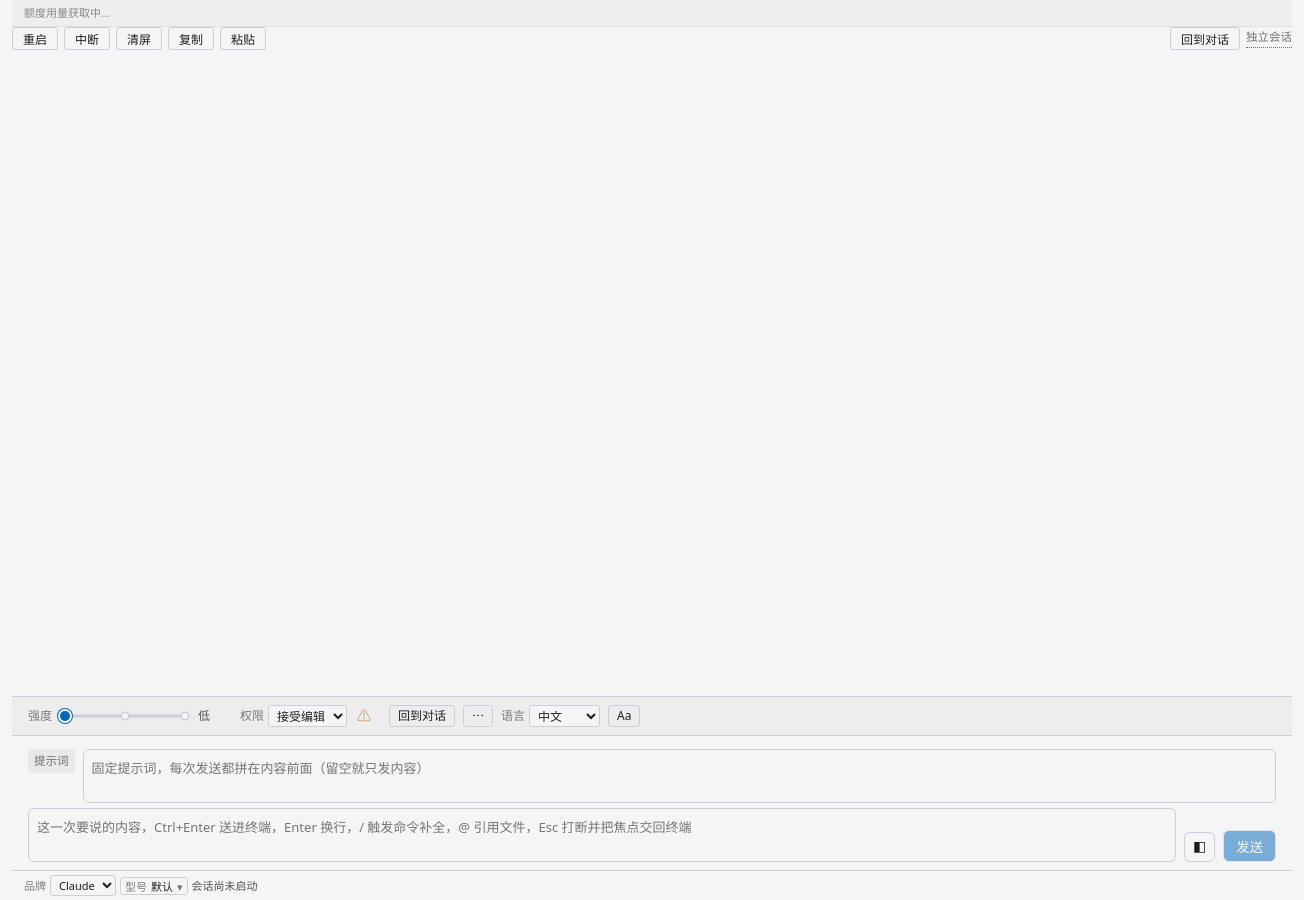
App：状态栏「⋯」菜单 › 凡是有原生面板的都走面板，菜单里不再有走老子命令路径的重复入口
Click the button "⋯": [478, 716] box x1=463 y1=705 x2=493 y2=727
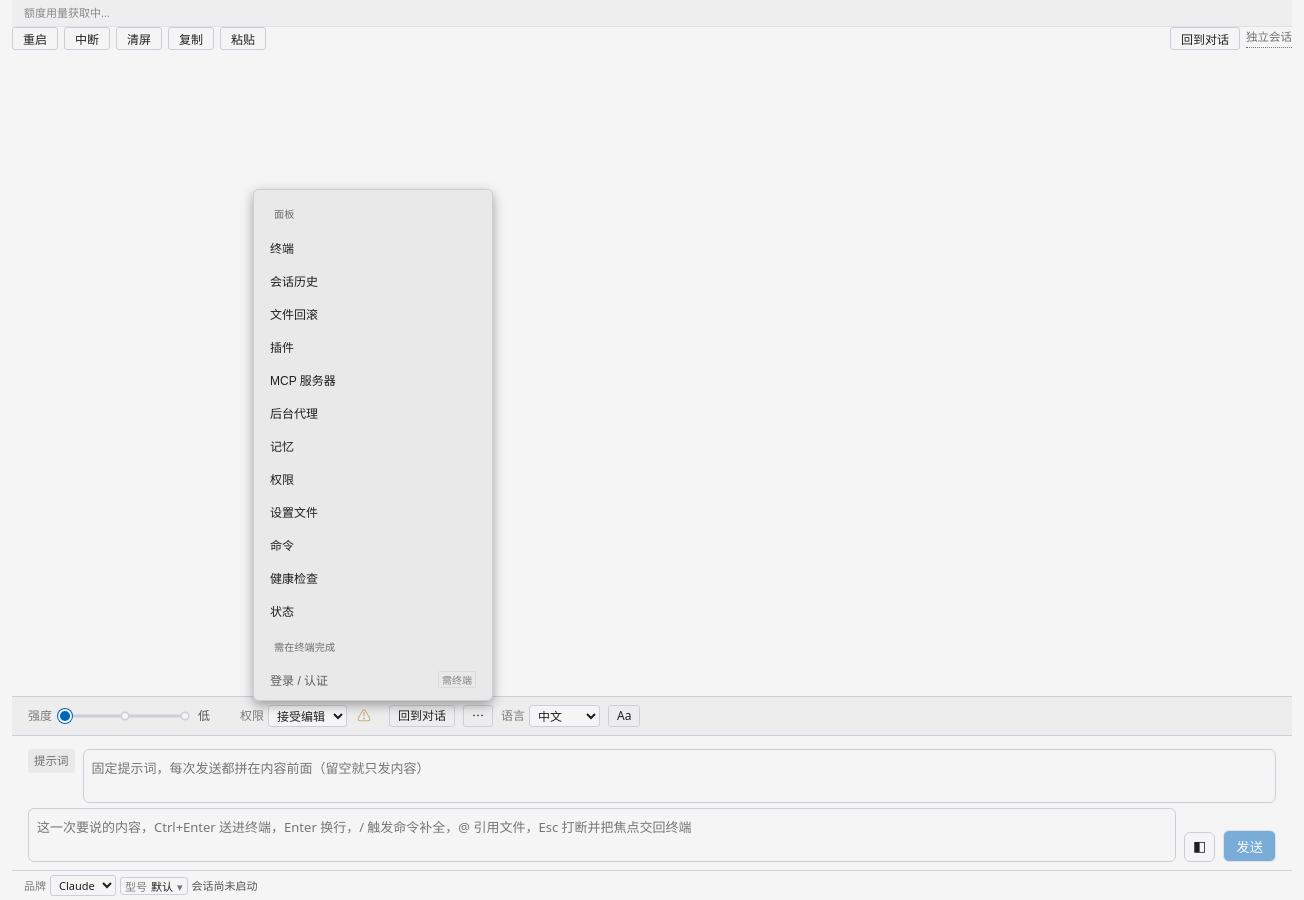
expect the number of buttons "插件" is 1: met, box x1=262 y1=334 x2=484 y2=359
expect the number of buttons "MCP 服务器" is 1: met, box x1=262 y1=367 x2=484 y2=392
expect the number of buttons "后台代理" is 1: met, box x1=262 y1=400 x2=484 y2=425
